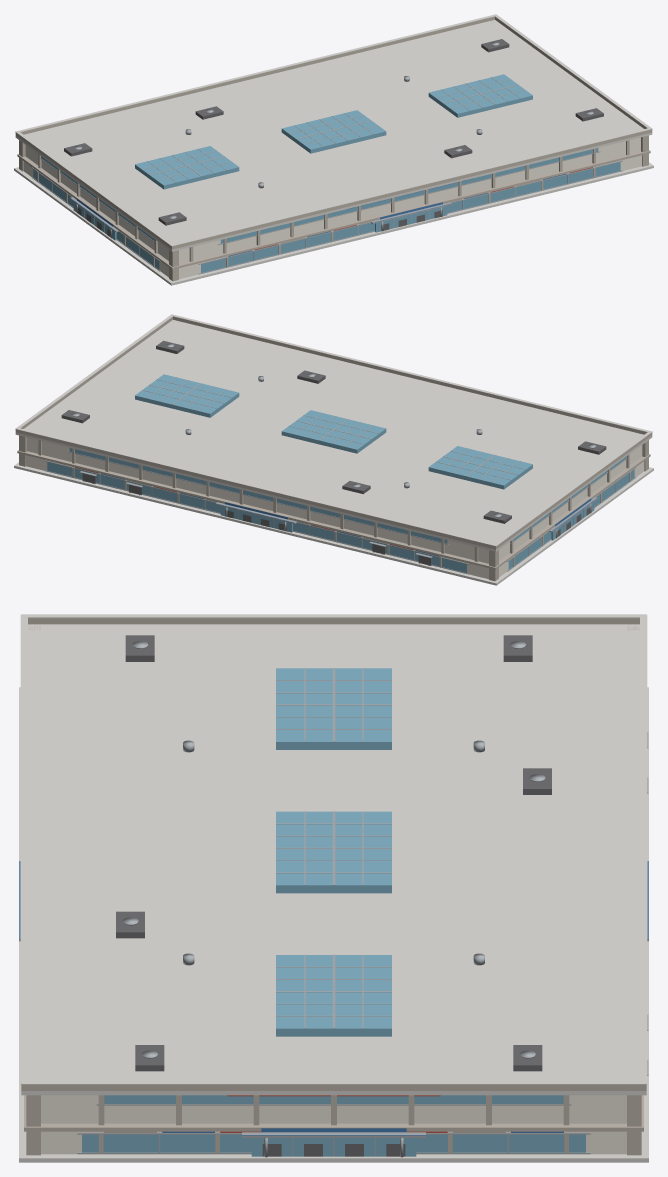
File: shopping_mall.glb
The picture shows the model from 3 angles, top to bottom: view 1: azimuth 30°, elevation 25°; view 2: azimuth 150°, elevation 25°; view 3: azimuth 270°, elevation 25°; orthographic projection. The views are drawn at different scales.
Visible parts, largest first — view 1: Merged_ConcreteLight, Merged_FacadeGlass, Merged_FacadeAccent, Merged_FacadeMain, Merged_PropsMetal, Merged_RoofDark, Merged_CityAccentBlue; view 2: Merged_ConcreteLight, Merged_FacadeGlass, Merged_FacadeAccent, Merged_FacadeMain, Merged_PropsMetal, Merged_RoofDark, Merged_CityAccentBlue; view 3: Merged_ConcreteLight, Merged_FacadeGlass, Merged_FacadeAccent, Merged_FacadeMain, Merged_PropsMetal, Merged_RoofDark, Merged_CityAccentBlue.
Part boxes in pixels (x1=…): Merged_ConcreteLight: x1=14, y1=14, x2=653, y2=285; Merged_FacadeGlass: x1=33, y1=74, x2=620, y2=272; Merged_FacadeAccent: x1=15, y1=16, x2=652, y2=281; Merged_FacadeMain: x1=23, y1=137, x2=641, y2=279; Merged_PropsMetal: x1=31, y1=42, x2=622, y2=274; Merged_RoofDark: x1=64, y1=39, x2=603, y2=237; Merged_CityAccentBlue: x1=70, y1=173, x2=566, y2=256; Merged_ConcreteLight: x1=14, y1=314, x2=653, y2=585; Merged_FacadeGlass: x1=47, y1=374, x2=634, y2=572; Merged_FacadeAccent: x1=15, y1=316, x2=652, y2=581; Merged_FacadeMain: x1=26, y1=437, x2=644, y2=579; Merged_PropsMetal: x1=45, y1=343, x2=636, y2=574; Merged_RoofDark: x1=61, y1=340, x2=606, y2=565; Merged_CityAccentBlue: x1=101, y1=473, x2=597, y2=556; Merged_ConcreteLight: x1=19, y1=614, x2=648, y2=1162; Merged_FacadeGlass: x1=82, y1=668, x2=585, y2=1156; Merged_FacadeAccent: x1=21, y1=618, x2=646, y2=1155; Merged_FacadeMain: x1=41, y1=1095, x2=626, y2=1154; Merged_PropsMetal: x1=19, y1=641, x2=648, y2=1157; Merged_RoofDark: x1=116, y1=635, x2=551, y2=1156; Merged_CityAccentBlue: x1=19, y1=861, x2=648, y2=1135.
Bounding box in the file's own units: 230 × 18 × 130.
